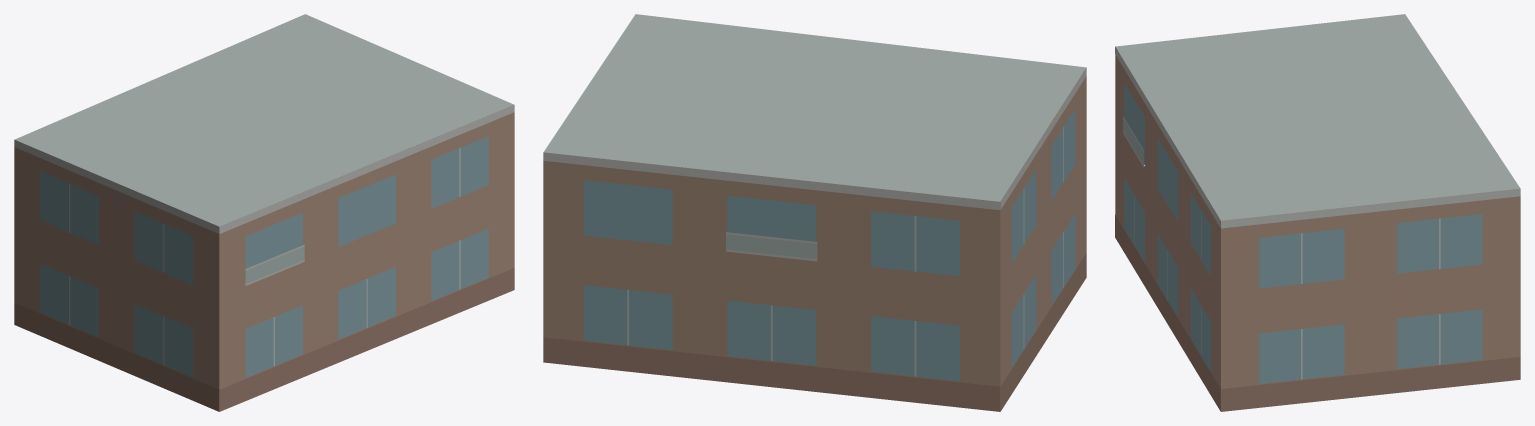
The model's file is survey-upis-32986007.glb.
3 renders of one model, left to right at view 1: azimuth 30°, elevation 25°; view 2: azimuth 150°, elevation 25°; view 3: azimuth 270°, elevation 25°, orthographic. The views are drawn at different scales.
Visible parts, largest first — view 1: survey-upis-32986007.tmp; view 2: survey-upis-32986007.tmp; view 3: survey-upis-32986007.tmp.
Boxes of the visible parts, x1,y1,x2,y2 form: survey-upis-32986007.tmp: (14, 14, 514, 411); survey-upis-32986007.tmp: (543, 14, 1086, 411); survey-upis-32986007.tmp: (1115, 14, 1520, 411).
Bounding box in the file's own units: 14.18 × 6.1 × 11.74.
